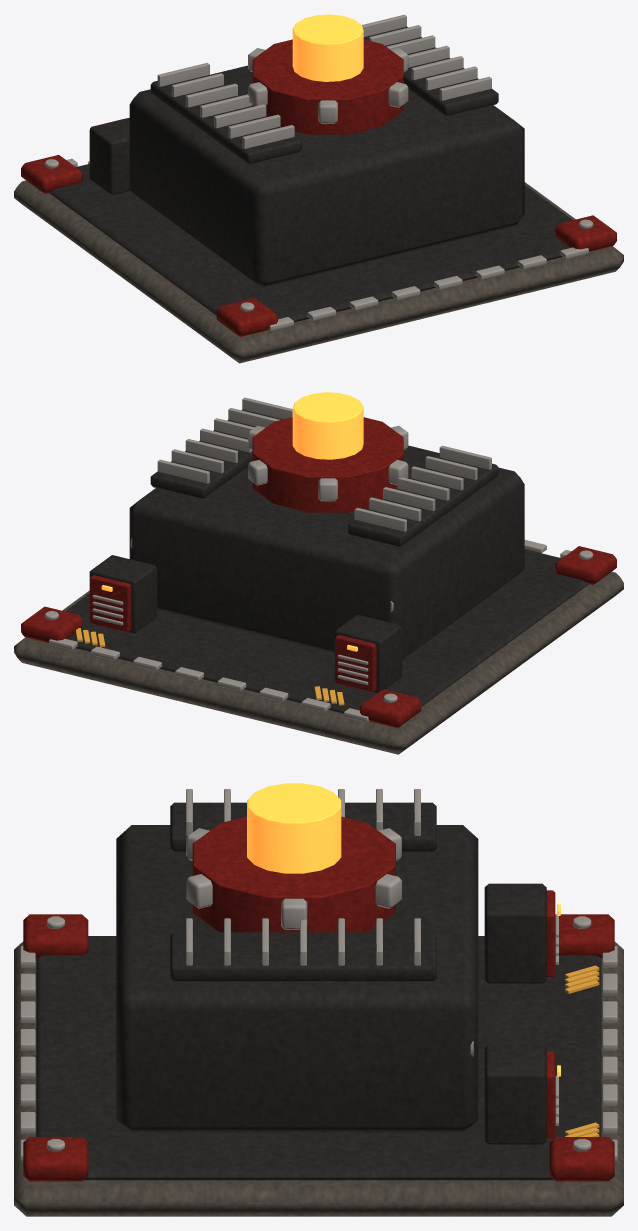
Rendered from kharn_reacteur_lourd.gltf.
3 renders of one model, top to bottom at view 1: azimuth 30°, elevation 25°; view 2: azimuth 150°, elevation 25°; view 3: azimuth 270°, elevation 25°, orthographic. The views are drawn at different scales.
Parts seen in each view (by area): view 1: Root.011_Geometry, Rotor_0_Geometry; view 2: Root.011_Geometry, Rotor_0_Geometry; view 3: Root.011_Geometry, Rotor_0_Geometry.
Boxes of the visible parts, left/top/right/bottom form: Root.011_Geometry: left=14, top=14, right=623, bottom=363; Rotor_0_Geometry: left=248, top=39, right=408, bottom=134; Root.011_Geometry: left=14, top=392, right=623, bottom=754; Rotor_0_Geometry: left=248, top=417, right=408, bottom=512; Root.011_Geometry: left=14, top=783, right=623, bottom=1216; Rotor_0_Geometry: left=186, top=816, right=401, bottom=932.
Bounding box in the file's own units: 3.94 × 2.07 × 3.94.
6 materials, 3 textured.
